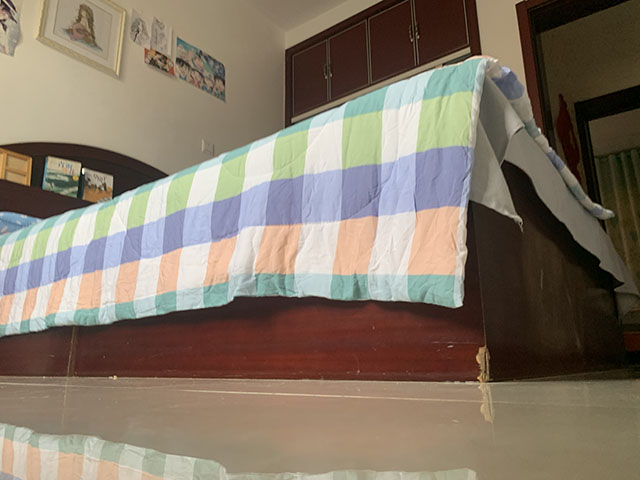bed: (1, 54, 640, 385)
